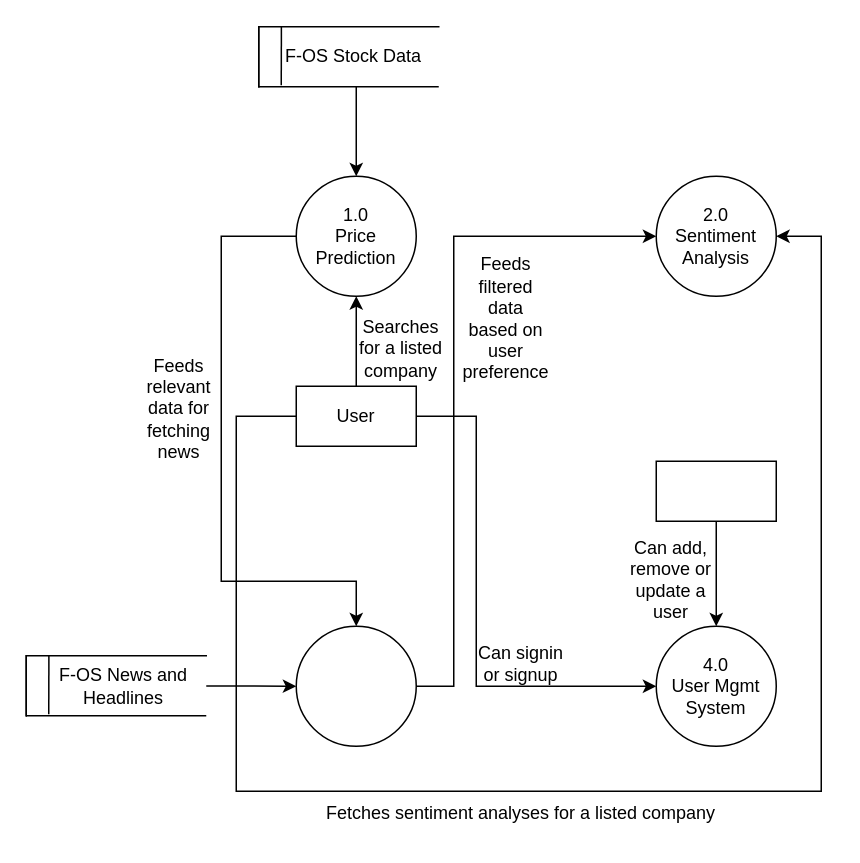
Some shapes in this 860 by 863 pixel diagram are drawn without their labels. The centre of each missing label's shape, as x and y in pixels:
"3.0 News and Headlines" belongs at [355,685].
"Admin" belongs at [715,490].
